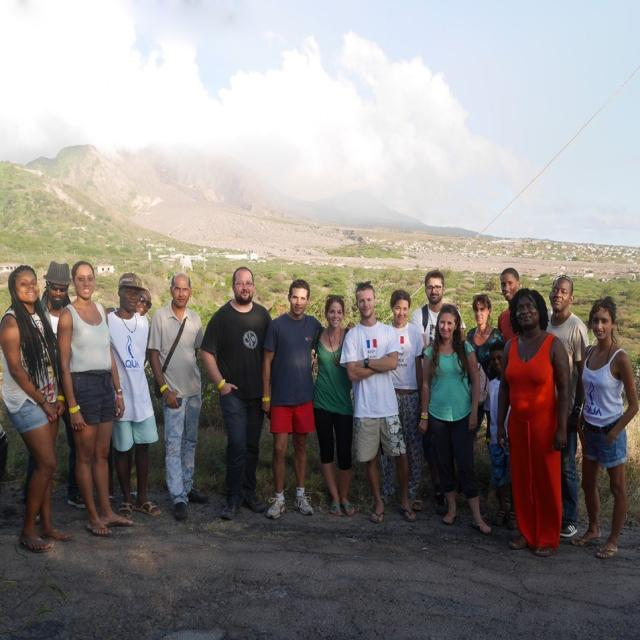body: (262, 278, 356, 520), (56, 259, 134, 538), (0, 262, 74, 555), (197, 262, 279, 522), (337, 279, 420, 525), (498, 287, 572, 560), (419, 304, 494, 536), (578, 293, 639, 561), (146, 271, 209, 524), (26, 259, 87, 509), (105, 271, 164, 521), (545, 274, 591, 538), (104, 287, 154, 504), (380, 288, 424, 513), (312, 296, 356, 518), (482, 340, 518, 530), (464, 292, 504, 448), (410, 268, 467, 347), (496, 266, 523, 346)
